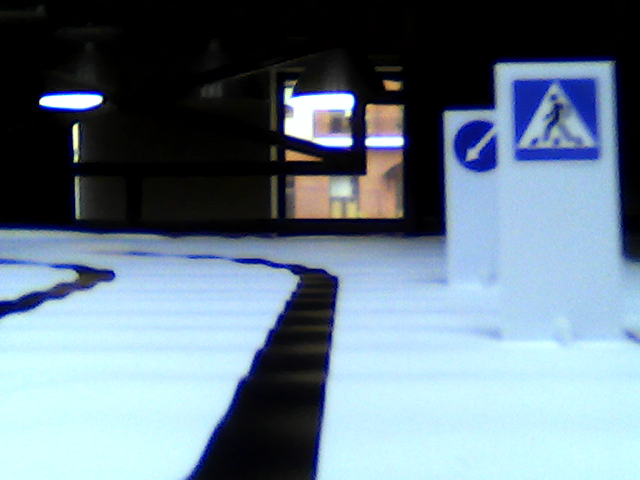pesh: (512, 78, 602, 160)
prep: (452, 121, 499, 175)
